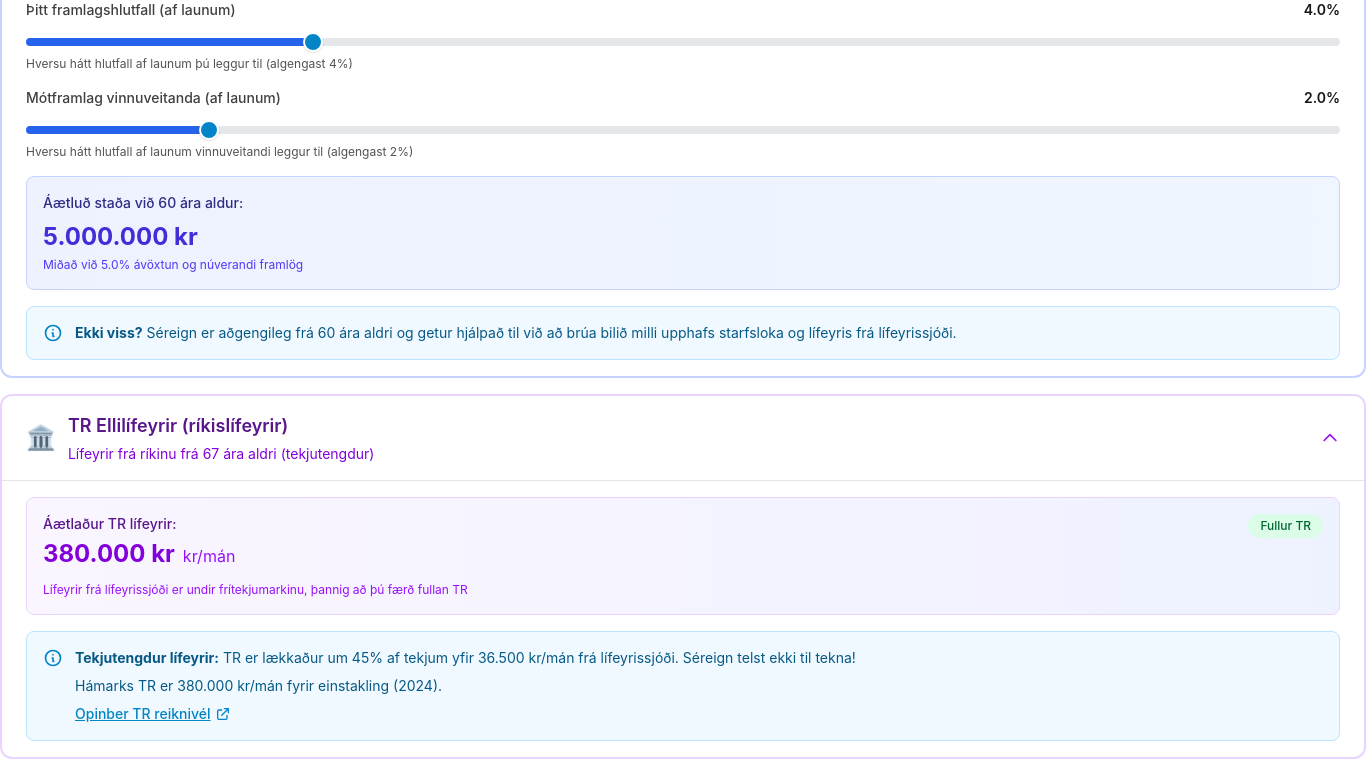
Scenario: PensionInputs › TR Ellilífeyrir Section › collapses and expands TR section
(page scrolled)
Expected: the text "Áætlaður TR lífeyrir:" is shown, [43,515,176,532]
Note: Click to collapse
Click the element that starts with "TR Ellilífeyrir (ríkislífeyrir)" at coordinates (200, 438), box [26,412,374,464]
(page scrolled)
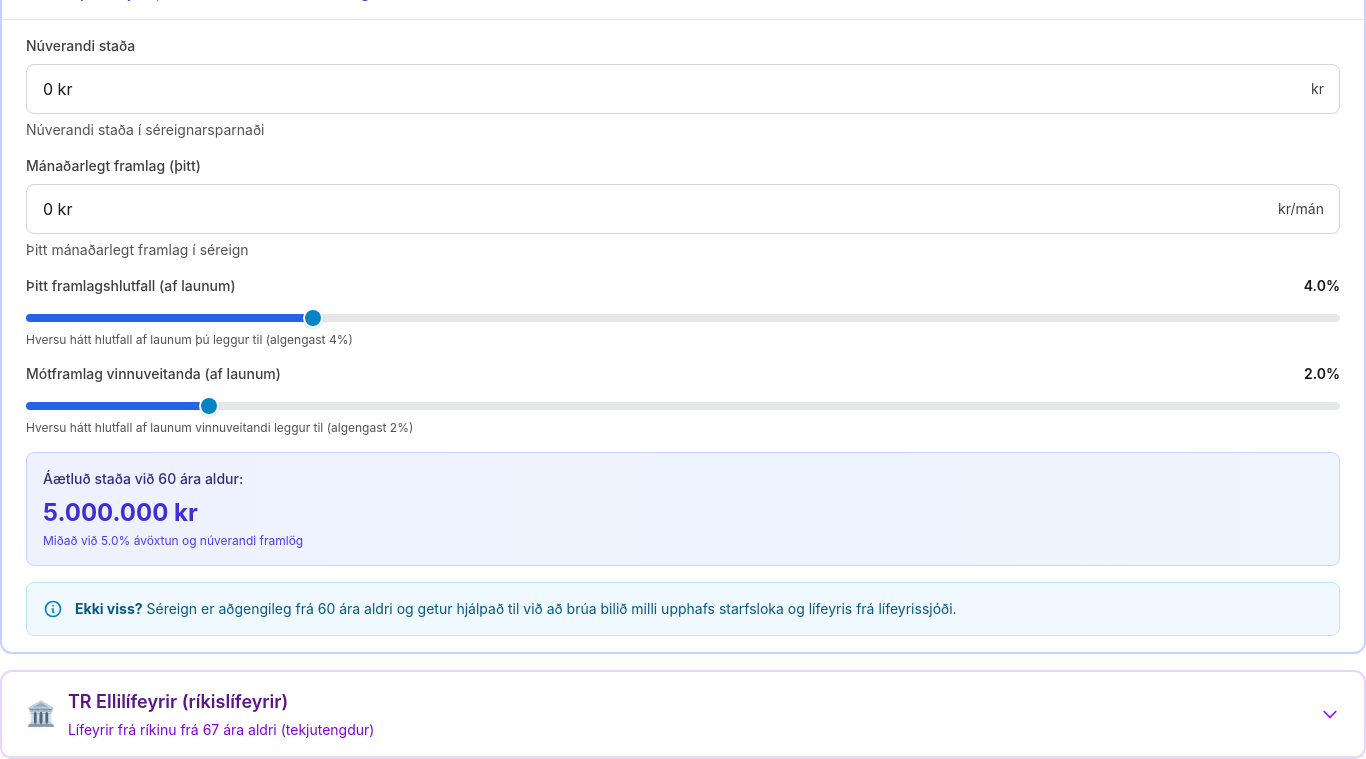
Expected: the text "Áætlaður TR lífeyrir" is gone
Note: Click to expand again
Click the element that starts with "TR Ellilífeyrir (ríkislífeyrir)" at coordinates (200, 714), box [26,688,374,740]
(page scrolled)
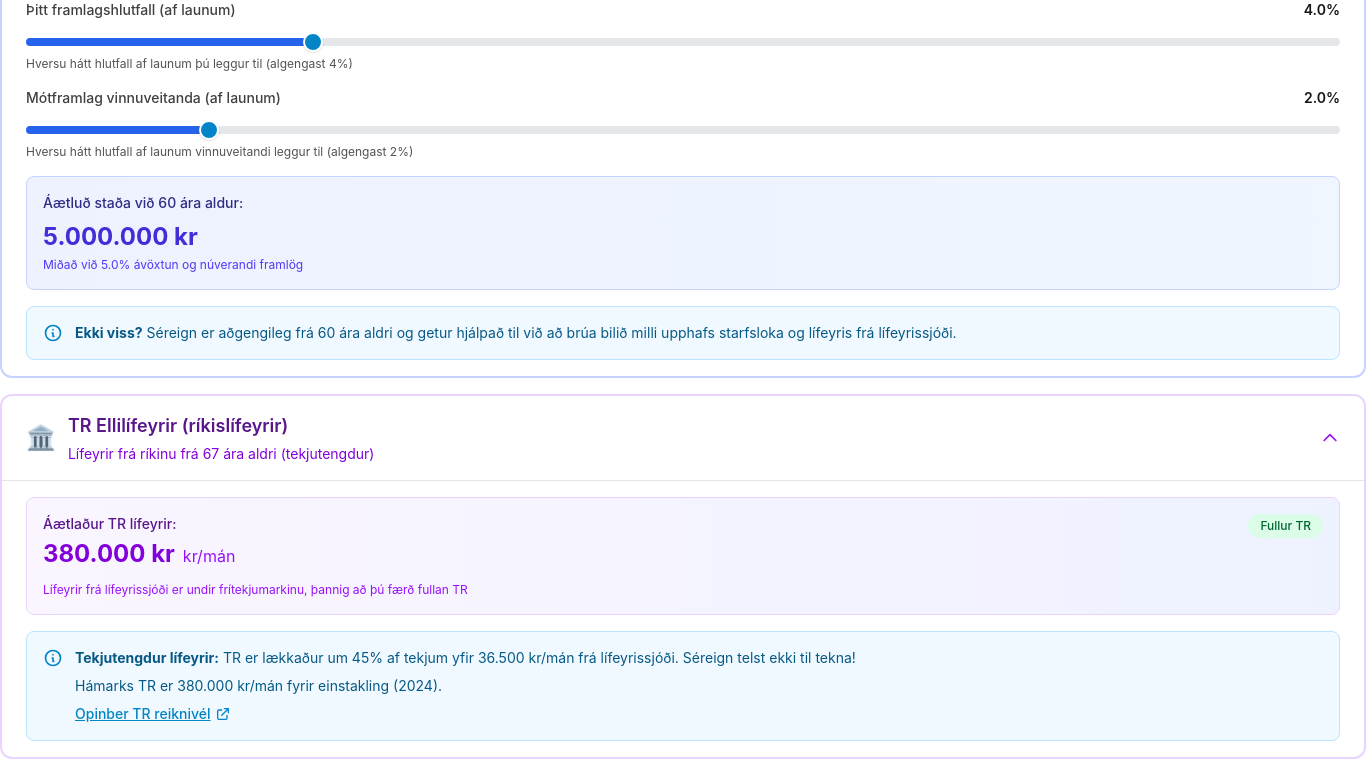
Expected: the text "Áætlaður TR lífeyrir:" is shown, [43,515,176,532]
